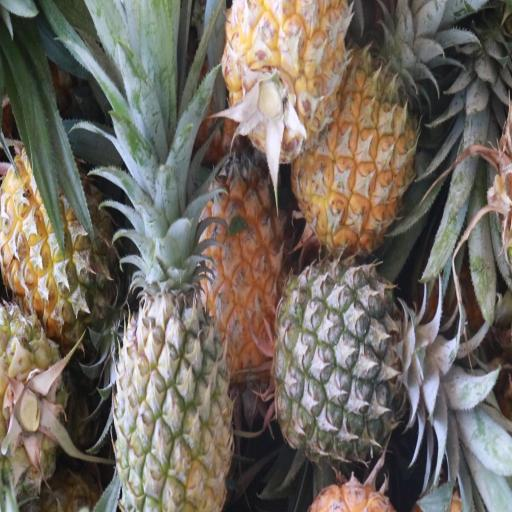------------------------------: (2, 149, 116, 336)
Pineapple - v8 v1: (295, 62, 420, 262), (223, 0, 350, 158), (197, 150, 285, 376)
